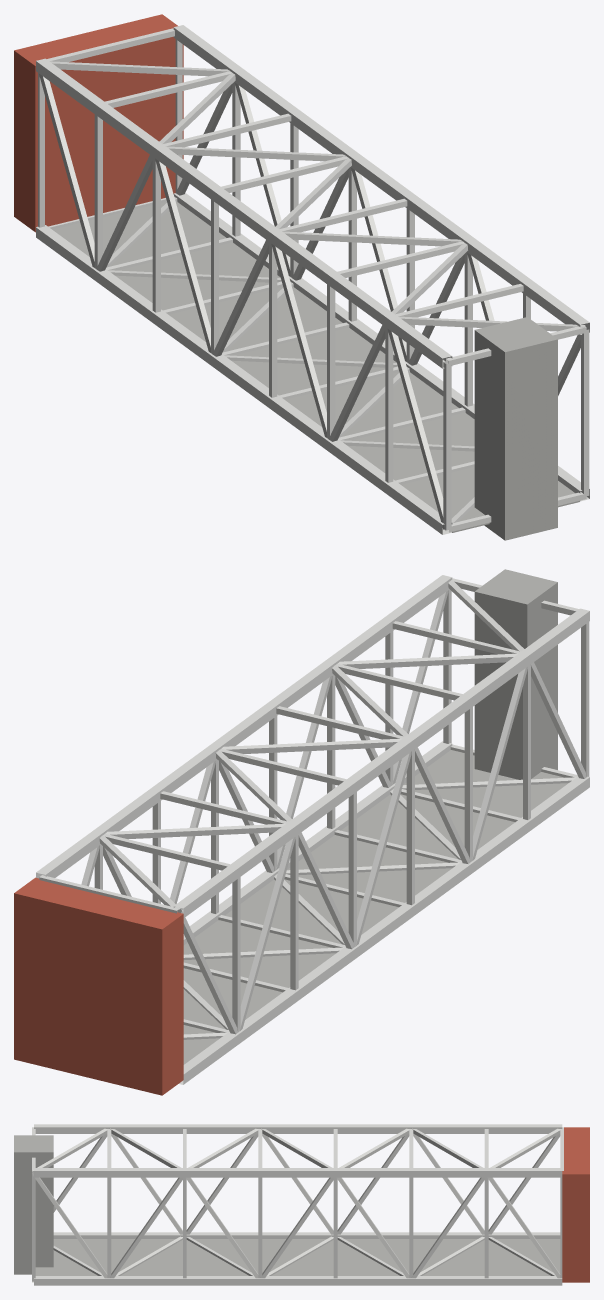
File: Pad_Arm_Heavy.fbx
3 renders of one model, top to bottom at view 1: azimuth 30°, elevation 25°; view 2: azimuth 150°, elevation 25°; view 3: azimuth 270°, elevation 25°, orthographic. The views are drawn at different scales.
Visible parts, largest first — view 1: Pad_Arm_Heavy; view 2: Pad_Arm_Heavy; view 3: Pad_Arm_Heavy.
Part boxes in pixels (x1=…): Pad_Arm_Heavy: x1=14, y1=14, x2=589, y2=540; Pad_Arm_Heavy: x1=14, y1=569, x2=589, y2=1095; Pad_Arm_Heavy: x1=14, y1=1124, x2=589, y2=1285.
Size of the model in its own units: 2.8 by 3.4 by 14.5.
